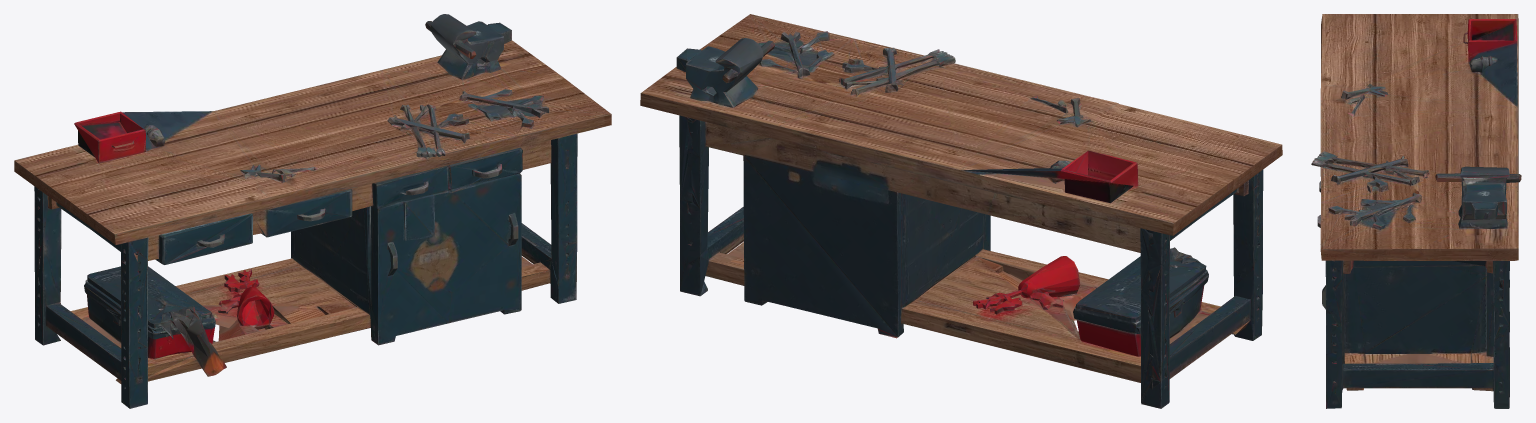
The model's file is garage_workbench.glb.
3 renders of one model, left to right at view 1: azimuth 30°, elevation 25°; view 2: azimuth 150°, elevation 25°; view 3: azimuth 270°, elevation 25°, orthographic. The views are drawn at different scales.
Bounding box in the file's own units: 1.9 × 0.832 × 0.7159.
1 material, 1 textured.
